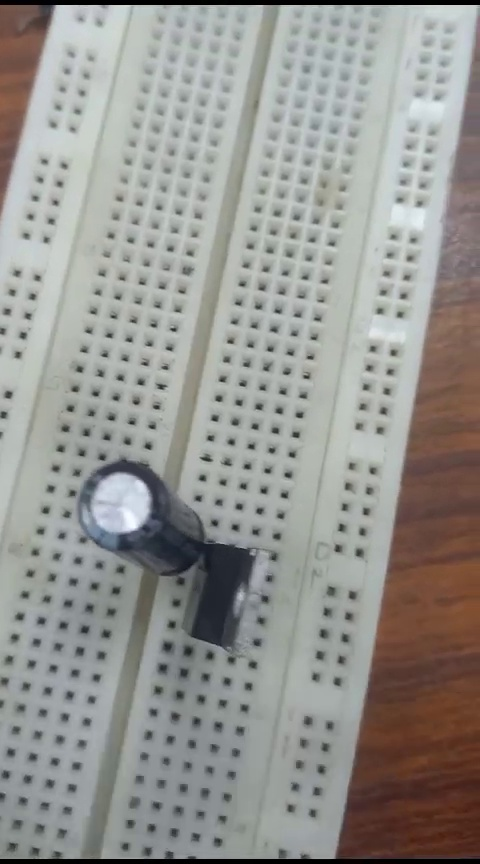capacitor: (76, 451, 203, 581)
voltage regulator: (186, 533, 267, 659)
